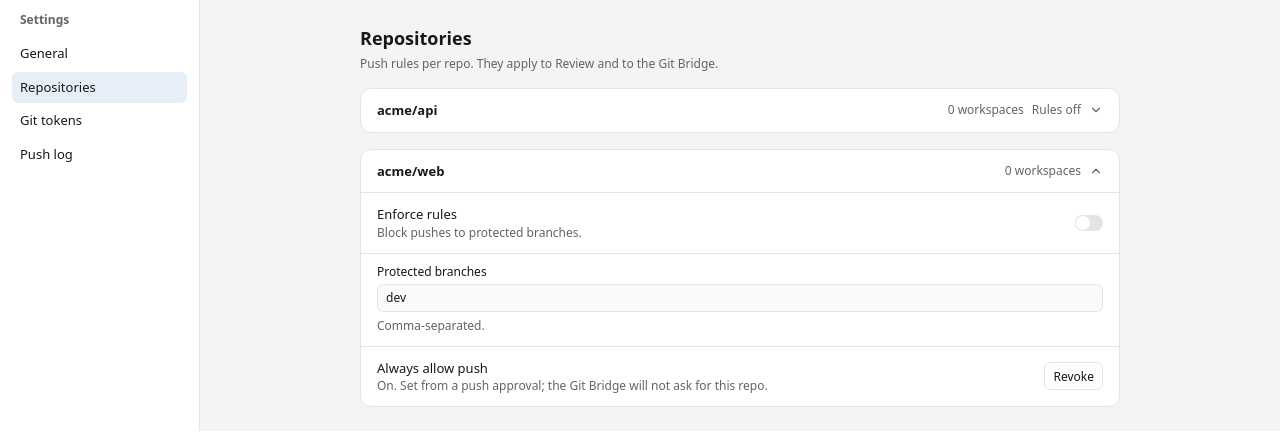
Scenario: SettingsView navigation › honours initialSection and initialRepoId
The image size is (1280, 448).
Expected: the field named "Protected branches for acme/web" holds "dev", x1=377 y1=284 x2=1103 y2=312
What coordinates should you click on to do the following:
click the button "acme/api"
I would click on:
 (407, 110)
Its box is x1=377 y1=101 x2=437 y2=120.
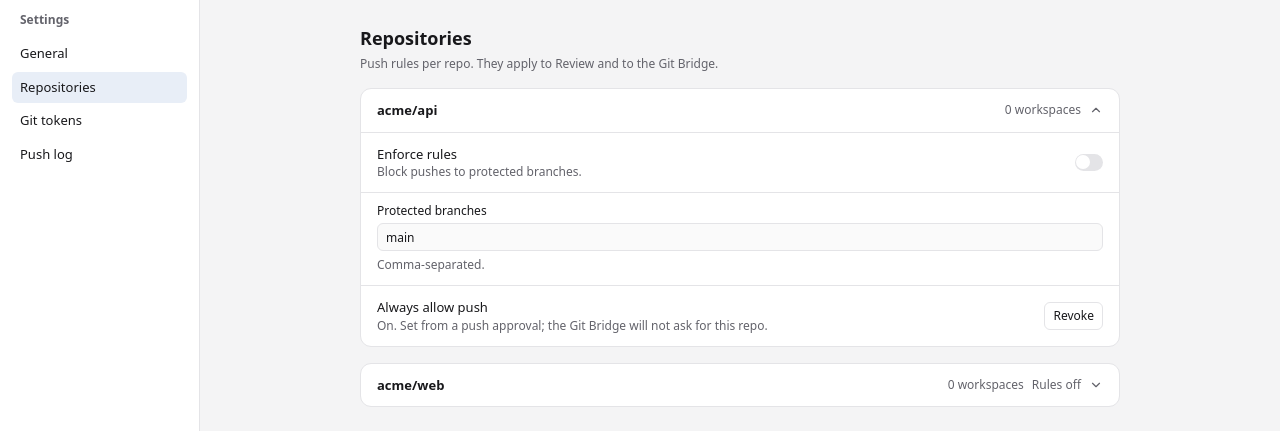
Expected: the field named "Protected branches for acme/api" holds "main", x1=377 y1=223 x2=1103 y2=251
